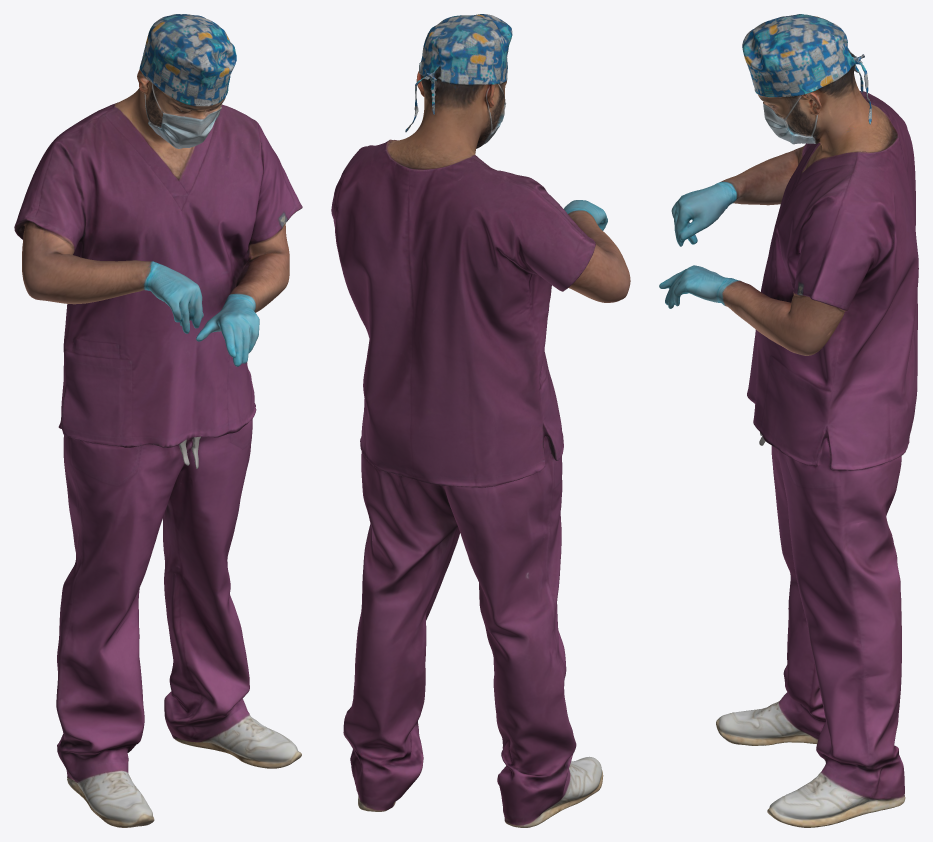
3 renders of one model, left to right at view 1: azimuth 30°, elevation 25°; view 2: azimuth 150°, elevation 25°; view 3: azimuth 270°, elevation 25°, orthographic.
Parts seen in each view (by area): view 1: Object_2; view 2: Object_2; view 3: Object_2.
Part boxes in pixels (box(x1,y1,x2,y2)): Object_2: box(14, 14, 302, 827); Object_2: box(331, 14, 630, 827); Object_2: box(659, 14, 918, 827).
Bounding box in the file's own units: 70.33 × 182 × 56.49.
1 material, 1 textured.
